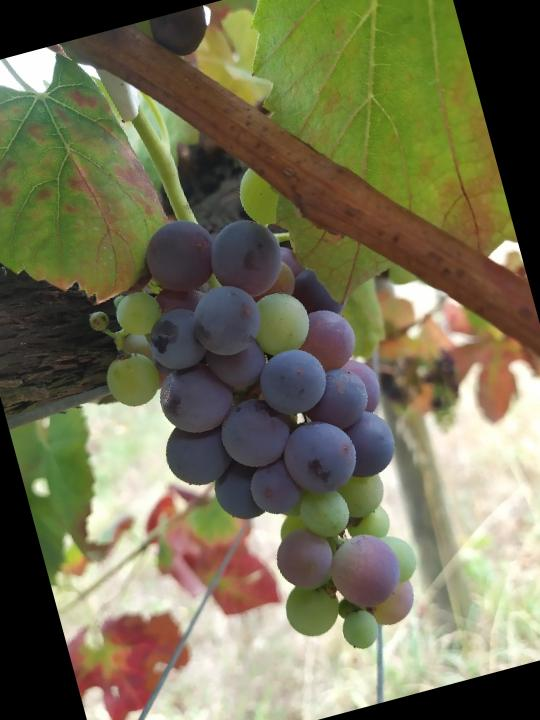grape: (66, 178, 450, 699)
